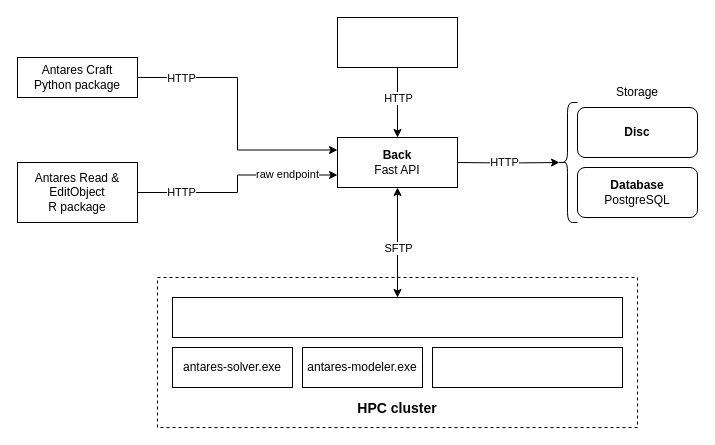
Some shapes in this 715 by 445 pixel diagram are drawn without their labels. Here are the shapes that lost their labels. From the top down, the centre of each, then its label:
At point (397, 42): "Front React".
At point (397, 317): "SLURM Workload manager".
At point (527, 367): "antares-xpansion-launcher.exe".
